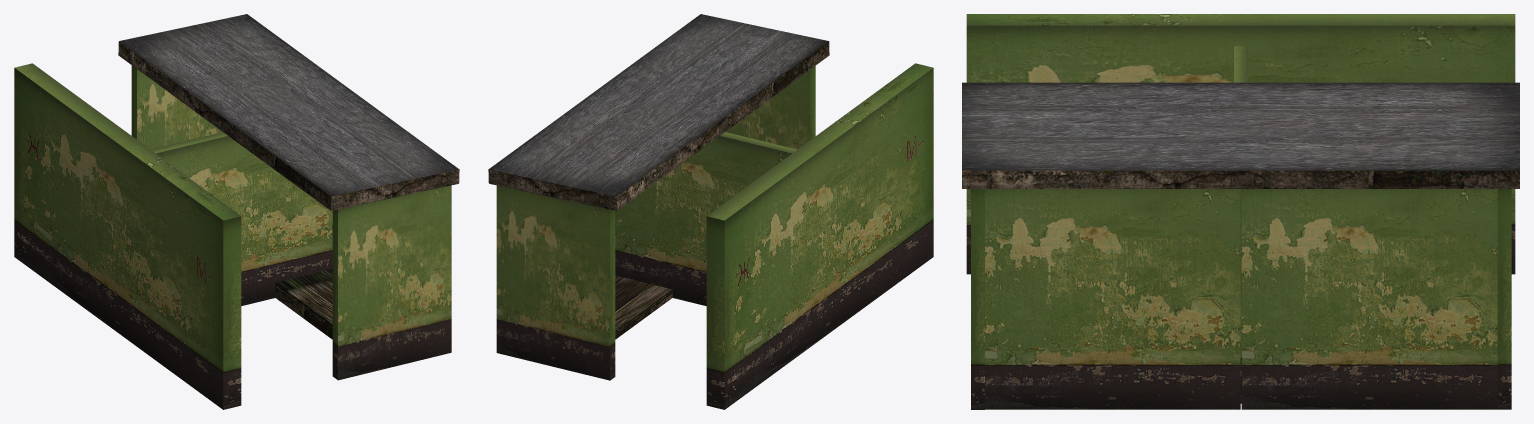
Rendered from r254_tualet2.FBX.
3 views of the same model, side by side, from view 1: azimuth 30°, elevation 25°; view 2: azimuth 150°, elevation 25°; view 3: azimuth 270°, elevation 25° (orthographic). The views are drawn at different scales.
Parts seen in each view (by area): view 1: r254_tualet2; view 2: r254_tualet2; view 3: r254_tualet2.
Part boxes in pixels (box(x1,y1,x2,y2)): r254_tualet2: box(14, 14, 459, 409); r254_tualet2: box(488, 14, 933, 409); r254_tualet2: box(962, 14, 1519, 409).
Size of the model in its own units: 259 by 407 by 200.
